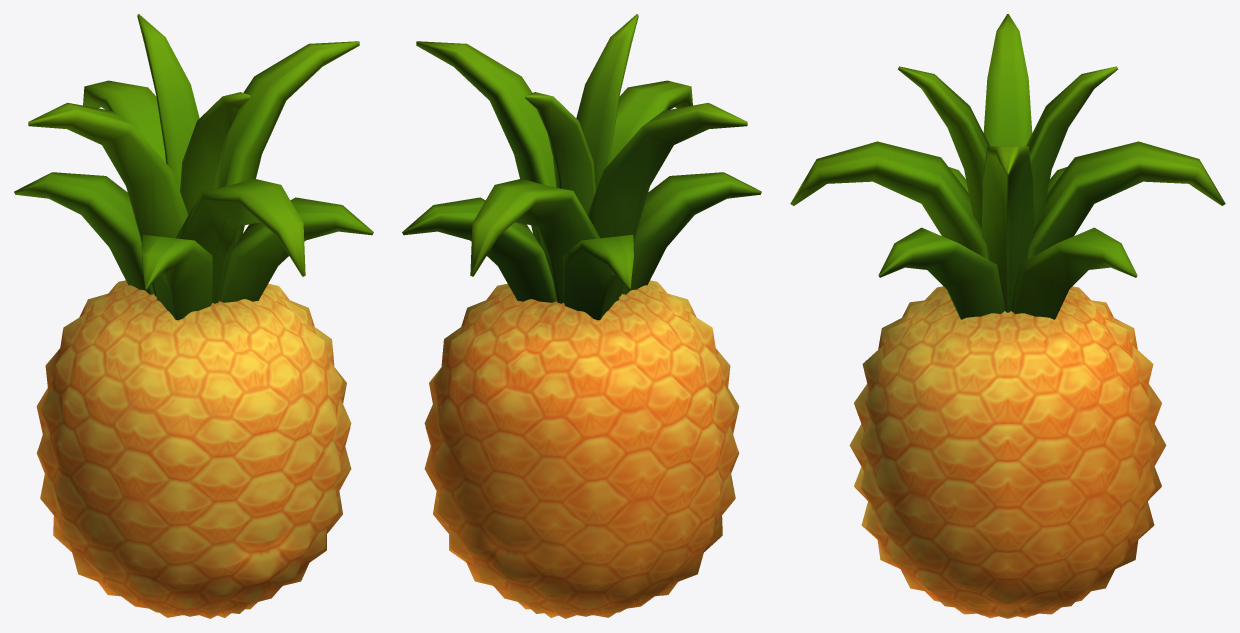
Rendered from Pineapple.fbx.
3 renders of one model, left to right at view 1: azimuth 30°, elevation 25°; view 2: azimuth 150°, elevation 25°; view 3: azimuth 270°, elevation 25°, orthographic.
Visible parts, largest first — view 1: Pineapple; view 2: Pineapple; view 3: Pineapple.
Part boxes in pixels (x1,y1,x2,y2): Pineapple: (14,14,373,618); Pineapple: (402,14,761,618); Pineapple: (790,14,1225,618).
Size of the model in its own units: 27.19 by 43.15 by 31.57.
